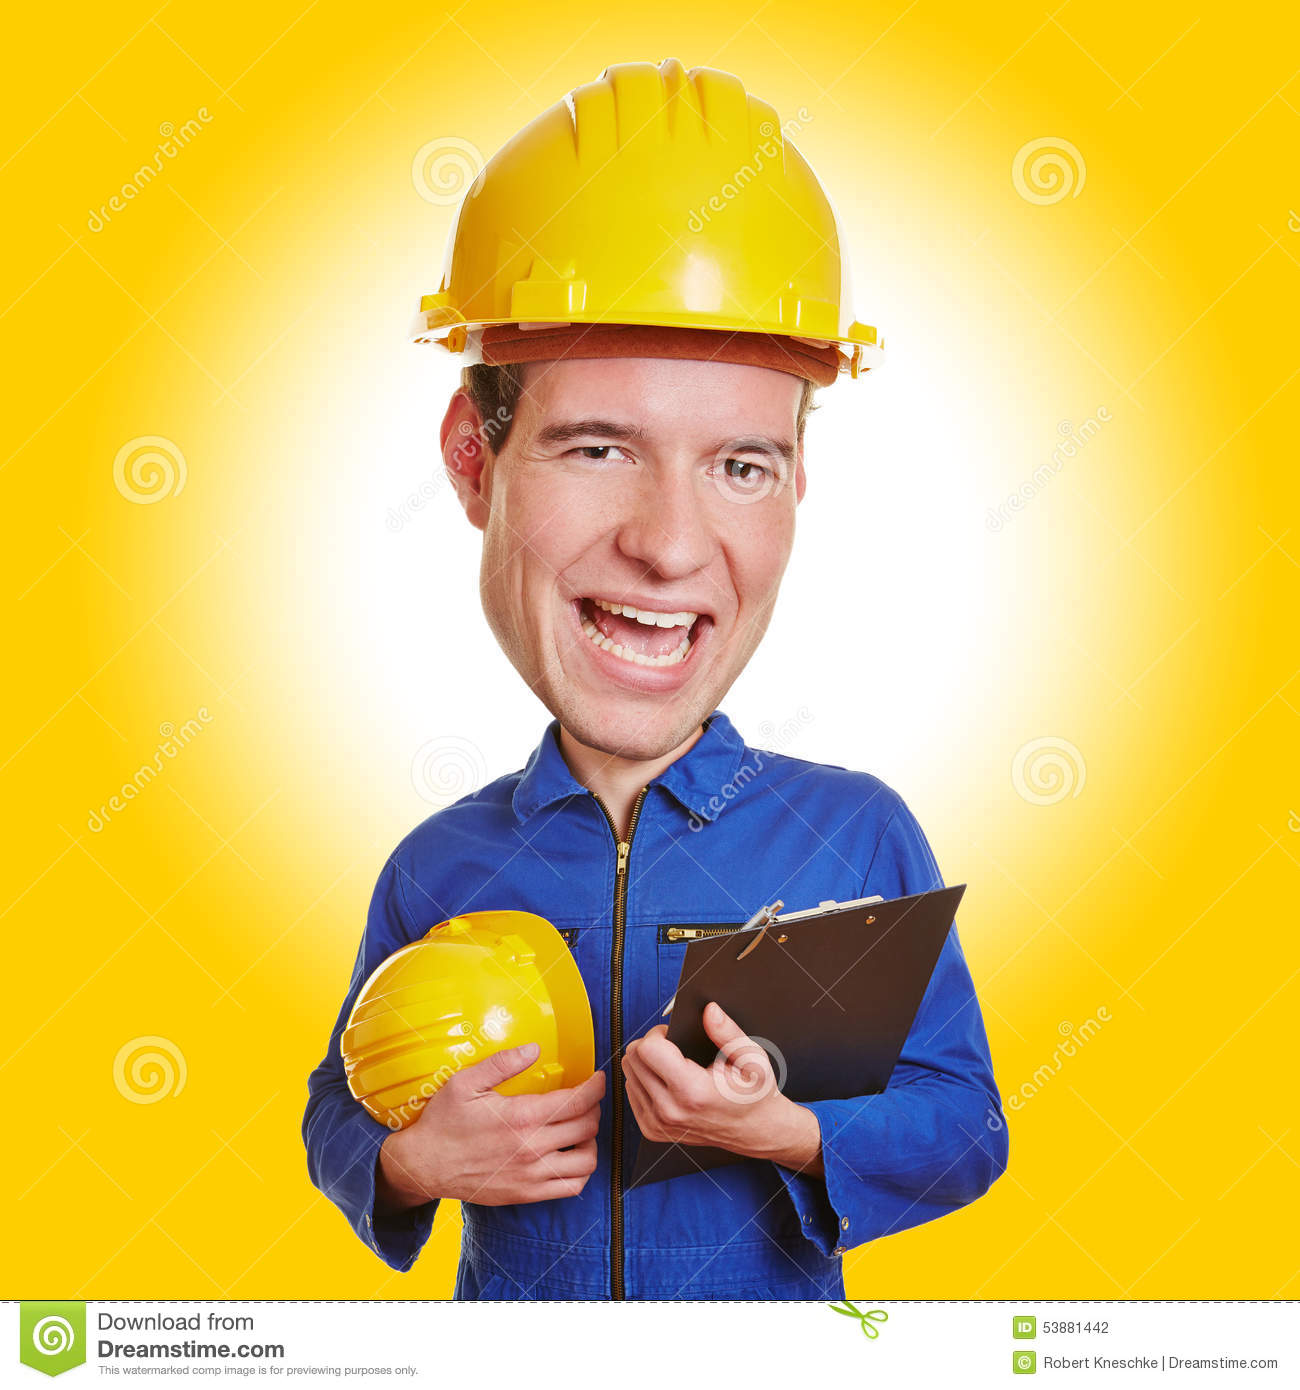Person_wearing_helmet: (404, 47, 883, 526)
